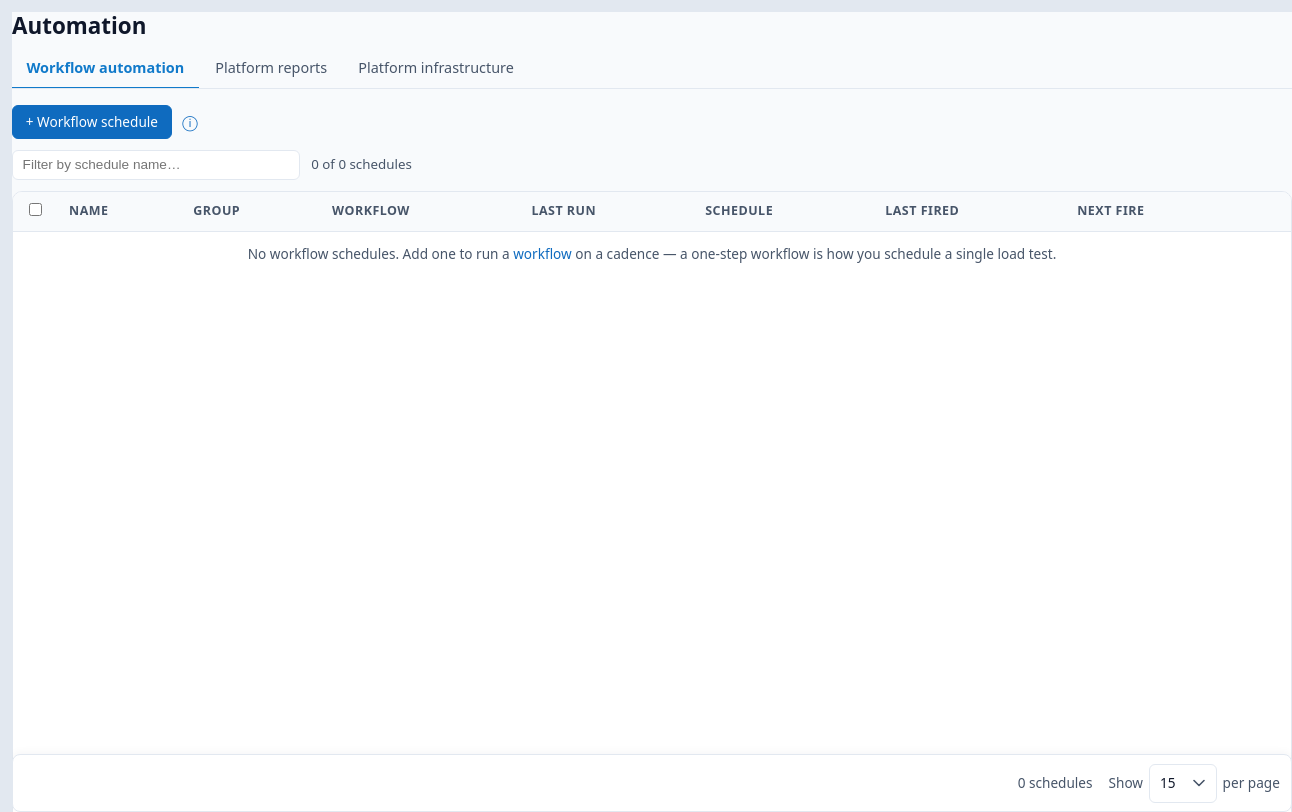
AutomationPage — three sections, group-scoped › scale out and scale in are one section, distinguished by a Direction chip
Expected: the element named "Automation sections" is shown, left=12, top=48, right=1291, bottom=89
Click the tab "Platform infrastructure" at (436, 69), box left=344, top=48, right=528, bottom=89
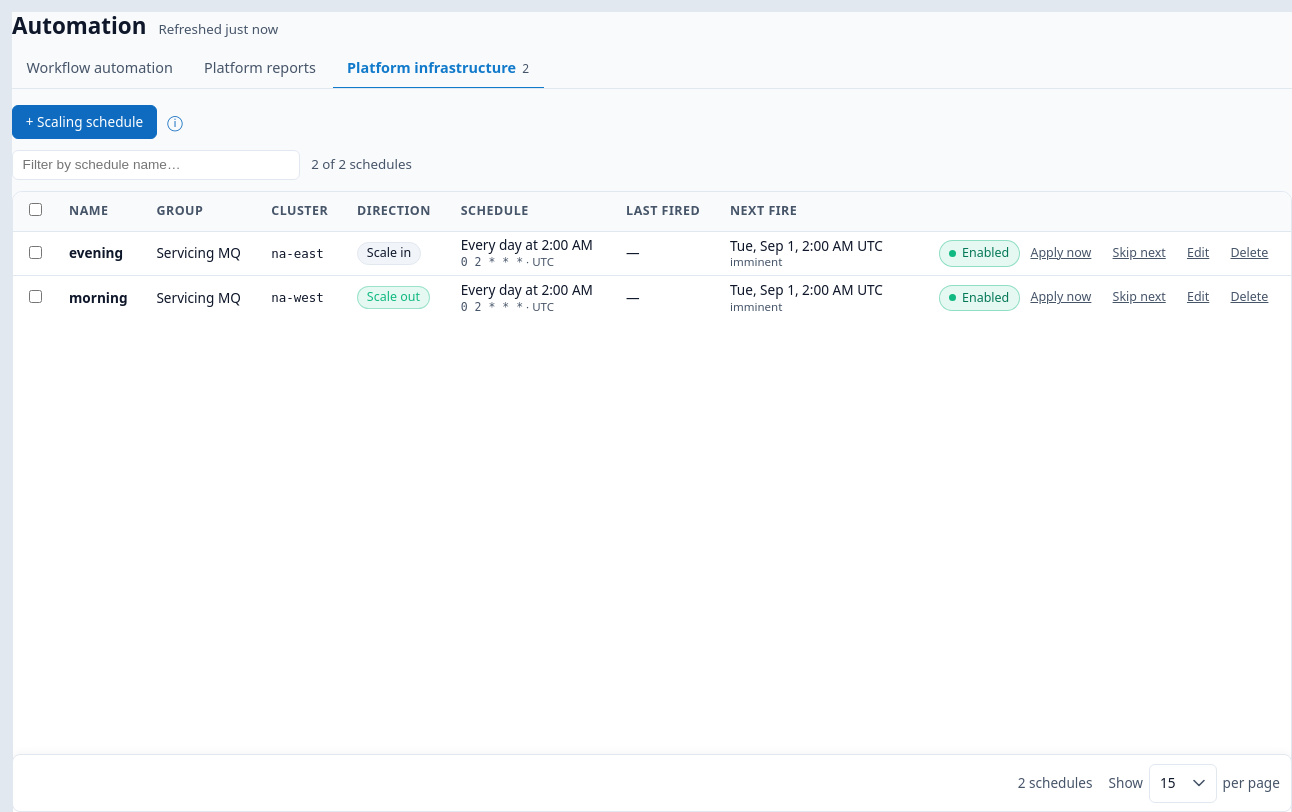
Now the text "Scale in" is shown, box left=357, top=242, right=421, bottom=265
Now the text "Scale out" is shown, box left=357, top=286, right=430, bottom=309
Now the text "na-east" is shown, box left=271, top=246, right=324, bottom=261
